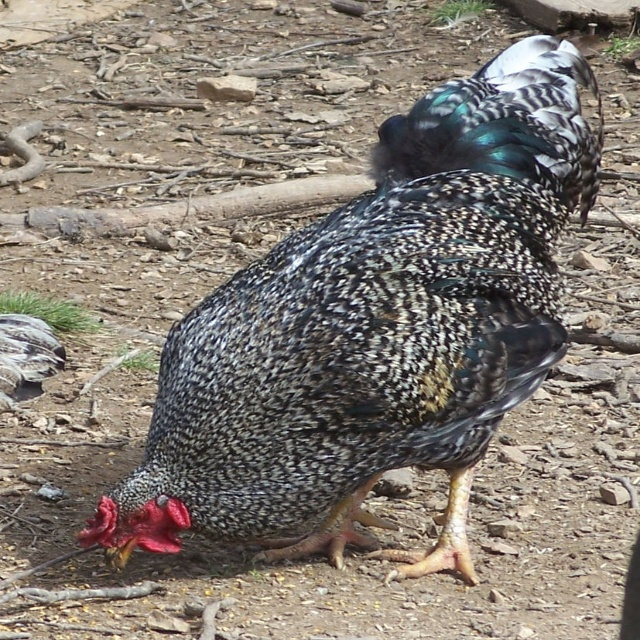Chicken: (91, 26, 605, 585)
